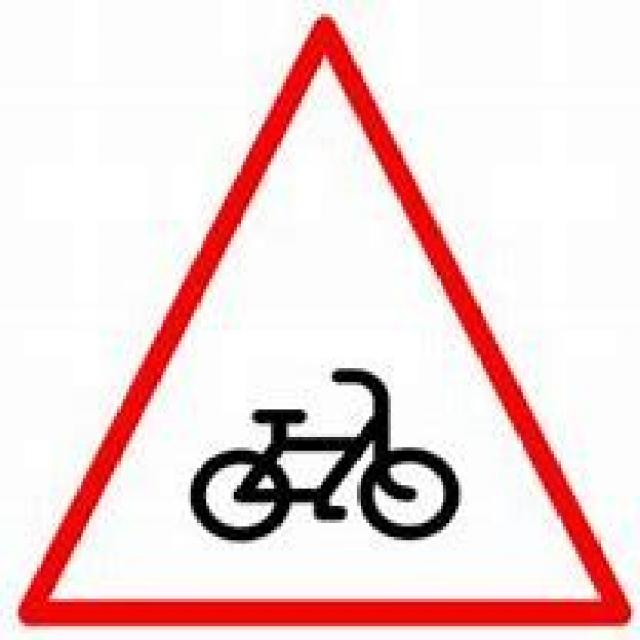CYCLE_CROSSING: (16, 11, 624, 626)
